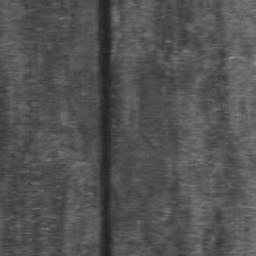Scratches: (98, 0, 113, 256)
